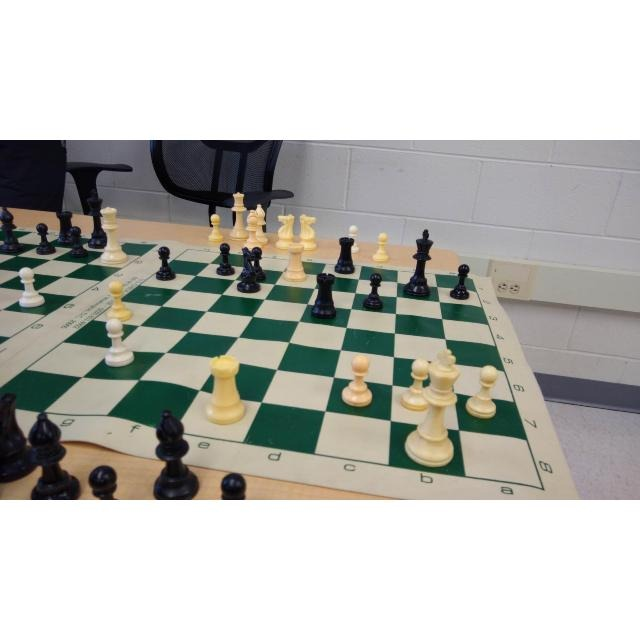black-bishop: (0, 202, 23, 256)
black-king: (401, 228, 435, 300), (84, 188, 112, 250)
black-knight: (237, 246, 261, 296)
black-pawn: (361, 273, 384, 313), (448, 263, 472, 301), (33, 219, 57, 256), (66, 226, 90, 260), (156, 246, 176, 282), (216, 242, 236, 277), (248, 246, 266, 282)
black-rook: (310, 271, 338, 321), (333, 235, 357, 275), (54, 209, 78, 249)
white-king: (400, 347, 461, 471)
white-pawn: (464, 364, 500, 420), (340, 351, 374, 410), (399, 357, 434, 413), (102, 317, 137, 369), (15, 266, 47, 310), (105, 279, 132, 323)
white-queen: (99, 204, 129, 266)
white-rook: (205, 353, 247, 427), (281, 239, 309, 282)
